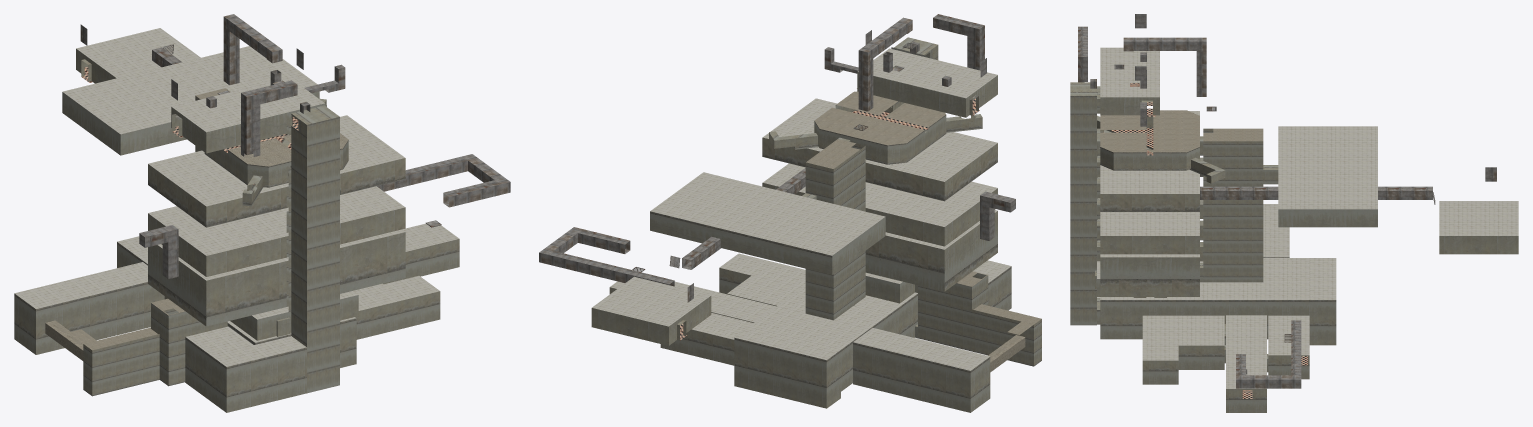
Rendered from interior_nivel1.glb.
3 renders of one model, left to right at view 1: azimuth 30°, elevation 25°; view 2: azimuth 150°, elevation 25°; view 3: azimuth 270°, elevation 25°, orthographic. The views are drawn at different scales.
Parts seen in each view (by area): view 1: Interior; view 2: Interior; view 3: Interior.
Boxes of the visible parts, bbox=[...] form: Interior: bbox=[14, 14, 510, 412]; Interior: bbox=[539, 14, 1041, 412]; Interior: bbox=[1070, 14, 1518, 412].
Bounding box in the file's own units: 68.87 × 46.18 × 67.41.
7 materials, 6 textured.
